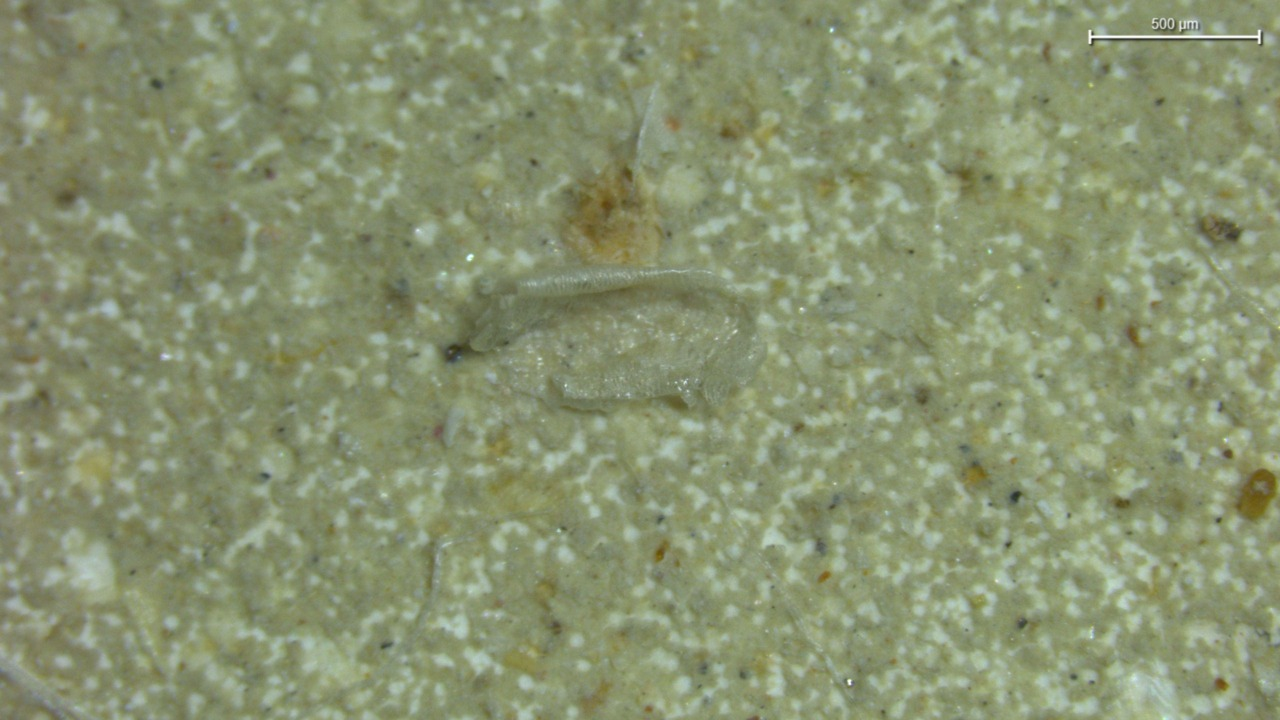microplastic_fragment: (468, 265, 765, 407)
